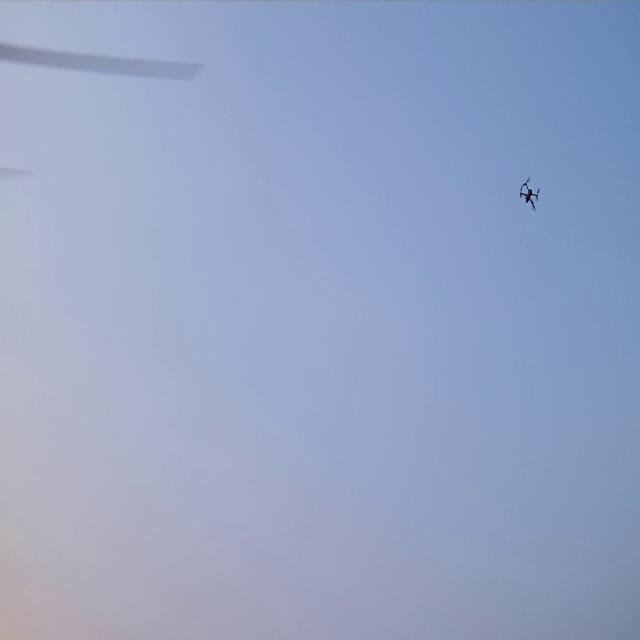UAV: (518, 174, 542, 213)
